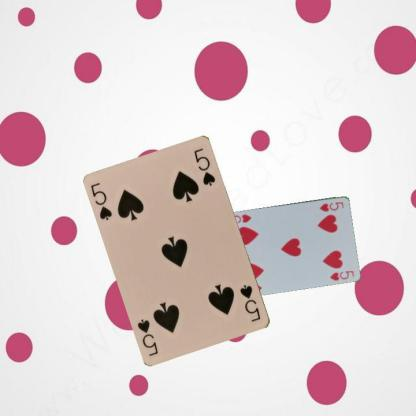5h: (317, 199, 345, 213)
5s: (88, 180, 114, 222), (238, 282, 262, 324)
